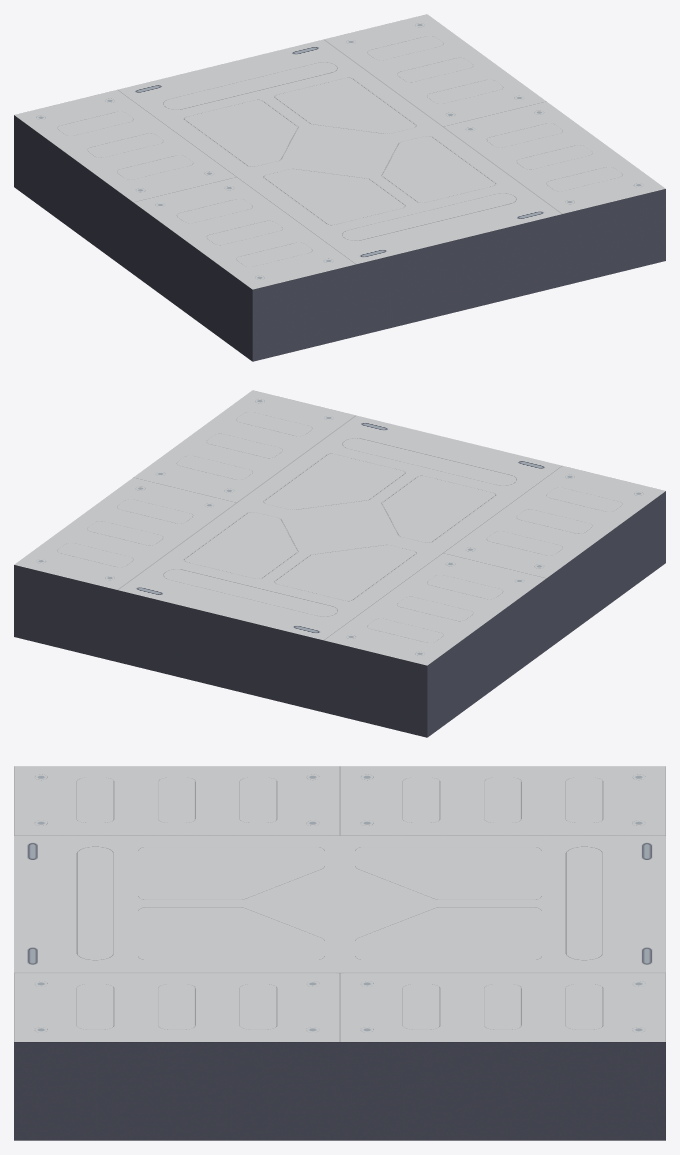
File: Floor_01_C.FBX
3 renders of one model, top to bottom at view 1: azimuth 30°, elevation 25°; view 2: azimuth 150°, elevation 25°; view 3: azimuth 270°, elevation 25°, orthographic. The views are drawn at different scales.
Parts seen in each view (by area): view 1: Floor_01_C, Decals; view 2: Floor_01_C, Decals; view 3: Floor_01_C, Decals.
Part boxes in pixels (x1,y1,x2,y2): Floor_01_C: (14,14,665,361); Decals: (36,23,643,279); Floor_01_C: (14,390,665,737); Decals: (36,399,643,655); Floor_01_C: (14,766,665,1140); Decals: (34,774,645,1032).
Size of the model in its own units: 6 by 1.01 by 6.
3 materials, 3 textured.
